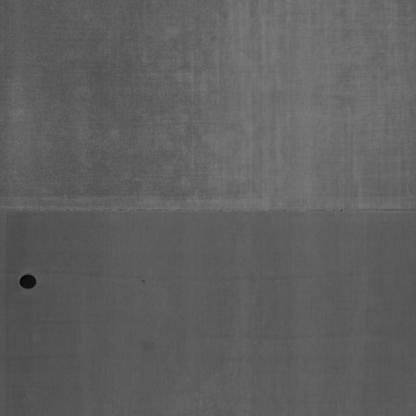punching_hole: (16, 269, 38, 293)
welding_line: (1, 195, 415, 224)
